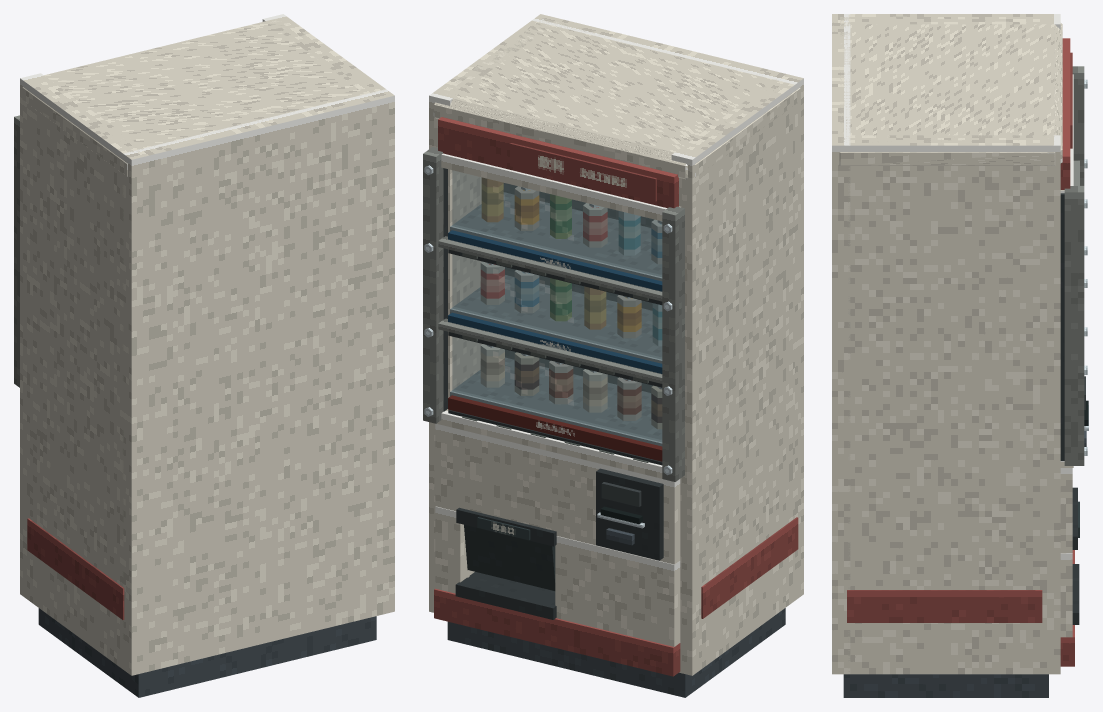
The model's file is f_vending_reinforced_off.glb.
3 renders of one model, left to right at view 1: azimuth 30°, elevation 25°; view 2: azimuth 150°, elevation 25°; view 3: azimuth 270°, elevation 25°, orthographic. The views are drawn at different scales.
Parts seen in each view (by area): view 1: block_enamel-back, block_enamel-side (×2), block_rounded-enamel-cap, block_recessed-kickplate, block_painted-side-stripe, block_bolted-display-stile; view 2: block_enamel-side (×2), block_sample-glazing (×3), block_rounded-enamel-cap, block_lower-service-panel, block_bolted-display-stile (×2), block_right-lower-return, block_painted-bottom-band, block_enamel-back, block_recessed-kickplate, block_sample-shelf-0, block_sample-shelf-1, block_sample-shelf-2 (+37 smaller); view 3: block_enamel-side (×2), block_rounded-enamel-cap, block_enamel-back, block_bolted-display-stile (×2), block_painted-side-stripe, block_recessed-kickplate, block_header-colour-band, block_display-rebate, block_lower-service-panel, block_left-lower-return, block_painted-bottom-band, block_retrieval-frame-bottom.
Boxes of the visible parts, box(x1,y1,x2,y2) form: block_enamel-back: box(122, 89, 394, 675); block_enamel-side (×2): box(20, 14, 385, 669); block_rounded-enamel-cap: box(22, 18, 364, 176); block_recessed-kickplate: box(38, 608, 376, 697); block_painted-side-stripe: box(27, 518, 124, 619); block_bolted-display-stile: box(14, 115, 19, 387); block_enamel-side (×2): box(429, 20, 794, 675); block_sample-glazing (×3): box(452, 170, 662, 442); block_rounded-enamel-cap: box(433, 18, 800, 179); block_lower-service-panel: box(435, 423, 680, 564); block_bolted-display-stile (×2): box(423, 147, 684, 481); block_right-lower-return: box(555, 536, 680, 646); block_painted-bottom-band: box(434, 588, 680, 676); block_enamel-back: box(532, 14, 803, 600); block_recessed-kickplate: box(447, 608, 785, 697); block_sample-shelf-0: box(450, 192, 662, 281); block_sample-shelf-1: box(450, 275, 662, 363); block_sample-shelf-2: box(450, 357, 662, 446); block_enamel-side (×2): box(848, 14, 1060, 674); block_rounded-enamel-cap: box(839, 17, 1062, 165); block_enamel-back: box(832, 14, 850, 674); block_bolted-display-stile (×2): box(1064, 66, 1084, 465); block_painted-side-stripe: box(847, 590, 1042, 622); block_recessed-kickplate: box(843, 674, 1048, 697); block_header-colour-band: box(1060, 38, 1070, 189); block_display-rebate: box(1060, 193, 1064, 460); block_lower-service-panel: box(1060, 468, 1072, 552); block_left-lower-return: box(1060, 553, 1072, 637); block_painted-bottom-band: box(1060, 550, 1074, 666); block_retrieval-frame-bottom: box(1072, 564, 1079, 624).
Bounding box in the file's own units: 0.951 × 1.86 × 0.7745.
2 materials, 2 textured.
